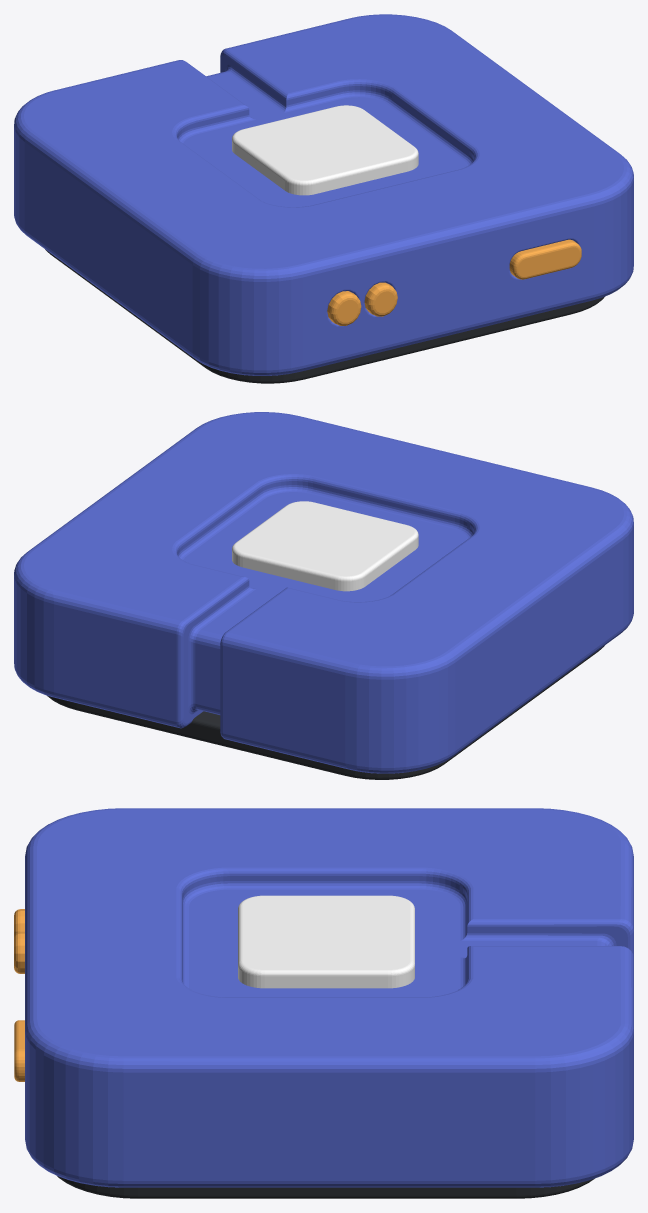
Rendered from baseModelD.glb.
3 renders of one model, top to bottom at view 1: azimuth 30°, elevation 25°; view 2: azimuth 150°, elevation 25°; view 3: azimuth 270°, elevation 25°, orthographic. The views are drawn at different scales.
Parts seen in each view (by area): view 1: Cube095, Cube098, Cube099, Cube096, Cube121_1, Cube121; view 2: Cube095, Cube098, Cube099; view 3: Cube095, Cube098, Cube099, Cube096.
Part boxes in pixels (x1,y1,x2,y2): Cube095: [14, 14, 633, 375]; Cube098: [232, 105, 418, 195]; Cube099: [45, 249, 604, 383]; Cube096: [509, 239, 581, 279]; Cube121_1: [327, 291, 361, 325]; Cube121: [364, 282, 397, 316]; Cube095: [14, 412, 633, 773]; Cube098: [232, 501, 418, 591]; Cube099: [47, 645, 604, 779]; Cube095: [25, 808, 633, 1187]; Cube098: [238, 895, 414, 988]; Cube099: [57, 1176, 594, 1198]; Cube096: [14, 1020, 24, 1081].
Bounding box in the file's own units: 0.9823 × 0.266 × 1.
